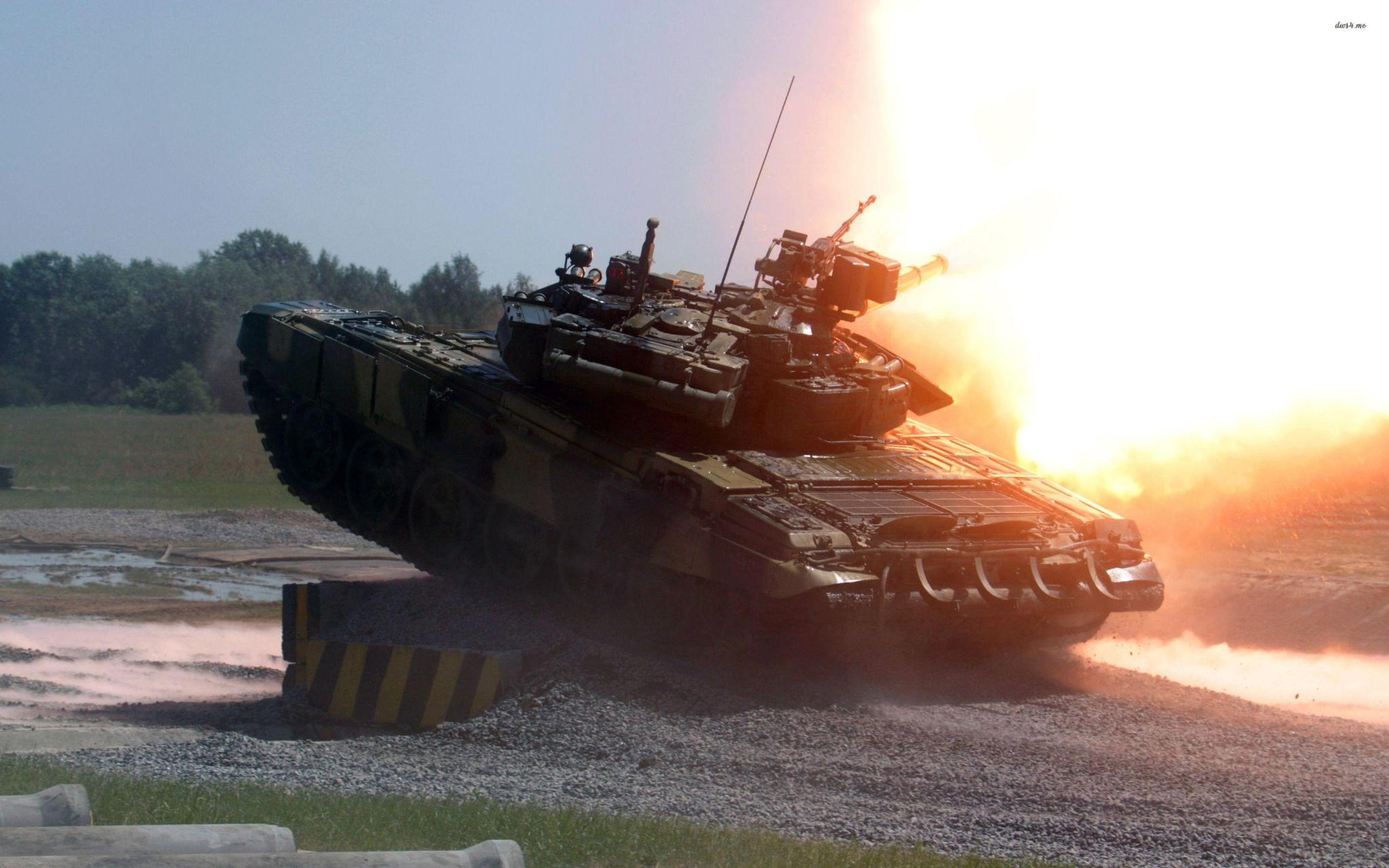tank: (234, 188, 1166, 668)
